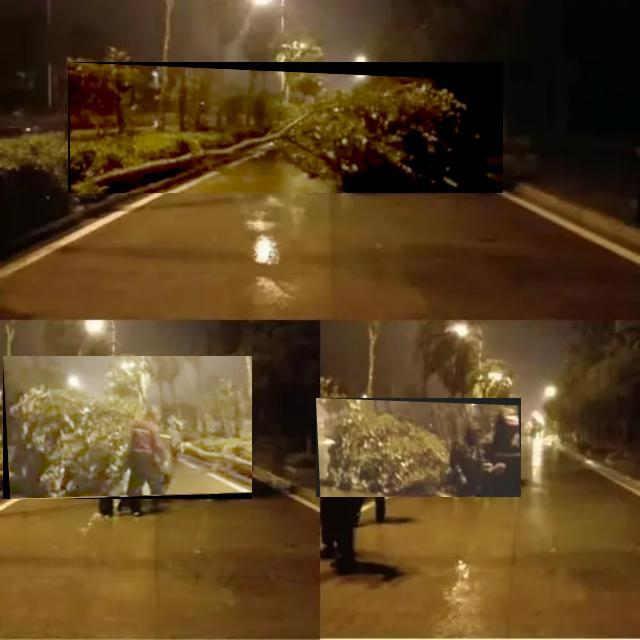fallen_tree: (68, 62, 504, 194), (3, 356, 253, 500), (316, 398, 522, 498)
